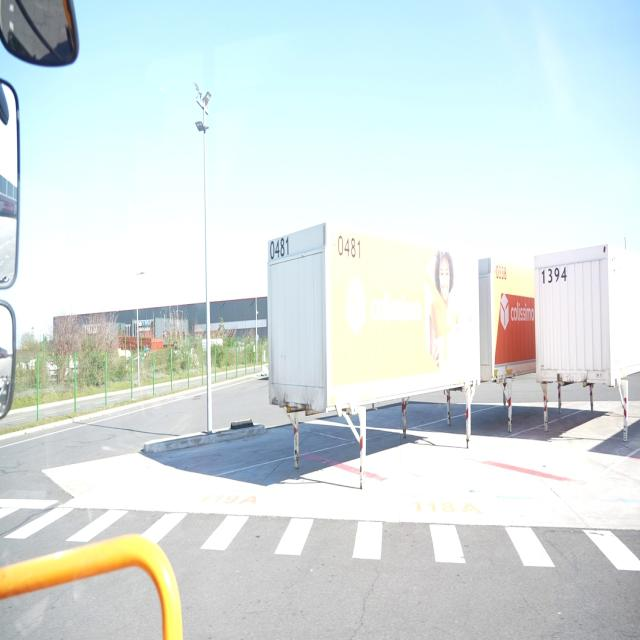Code: (335, 228, 363, 262), (268, 234, 290, 265), (537, 266, 569, 284), (494, 262, 510, 282)
